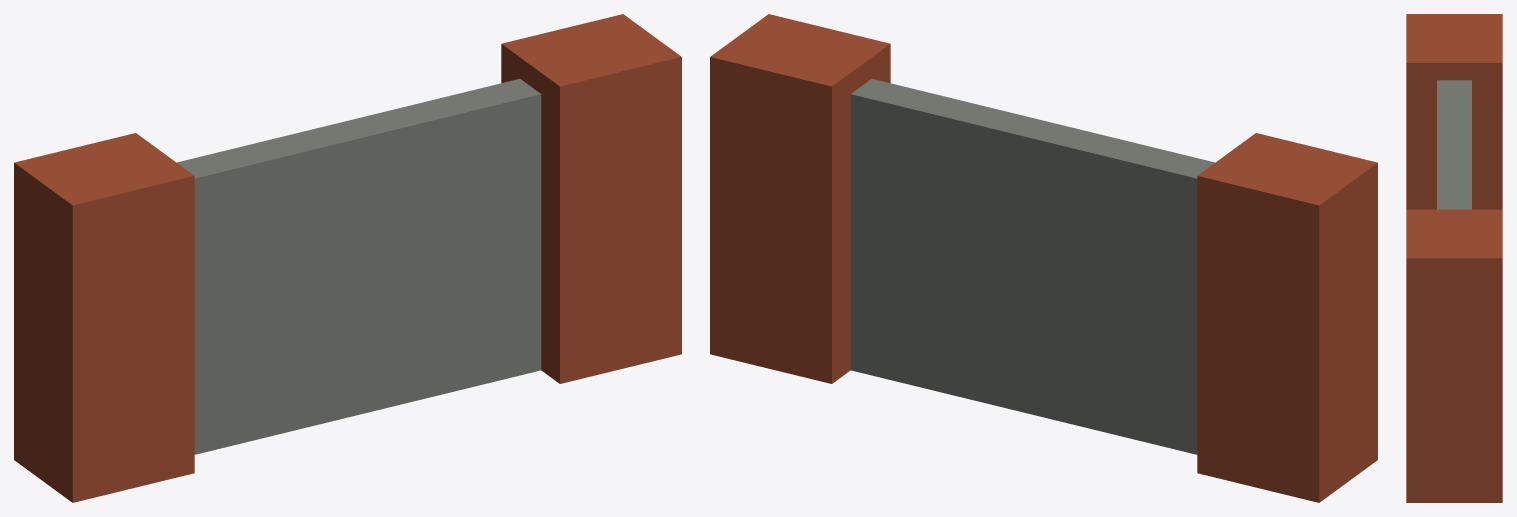
File: wall_gate.gltf
The picture shows the model from 3 angles, left to right: view 1: azimuth 30°, elevation 25°; view 2: azimuth 150°, elevation 25°; view 3: azimuth 270°, elevation 25°; orthographic projection. The views are drawn at different scales.
Parts seen in each view (by area): view 1: panel, left, right; view 2: panel, left, right; view 3: right, left, panel.
Part boxes in pixels (box(x1,y1,x2,y2)): panel: box(177, 79, 541, 454); left: box(14, 133, 194, 502); right: box(501, 14, 681, 383); panel: box(850, 79, 1214, 454); left: box(1197, 133, 1377, 502); right: box(710, 14, 890, 383); right: box(1406, 209, 1502, 502); left: box(1406, 14, 1502, 209); panel: box(1437, 80, 1471, 209).
Bounding box in the file's own units: 3 × 1.4 × 0.5.
